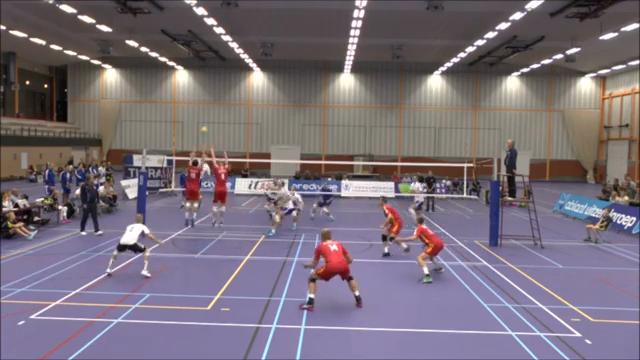attacco: (197, 150, 216, 193)
muro: (207, 142, 232, 229), (180, 147, 202, 228)
